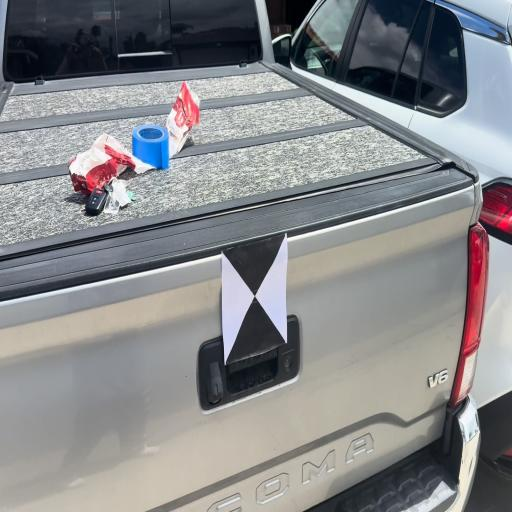target: (222, 234, 287, 364)
